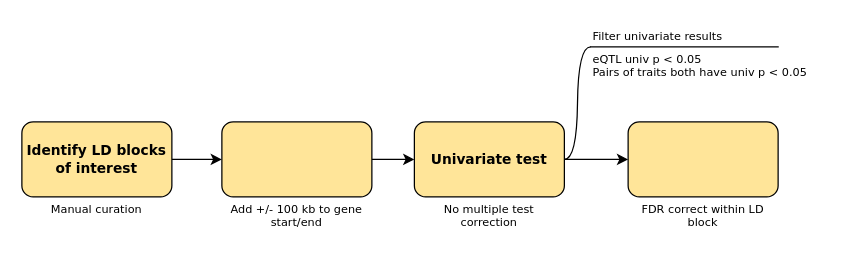
The diagram is 863 pixels wide and 263 high, and some of its shapes have lost their labels. Here are the shapes that lost their labels. From the top down, the centre of each, then its label:
(x=296, y=159): Define gene loci within LD block
(x=702, y=159): Bivariate test
